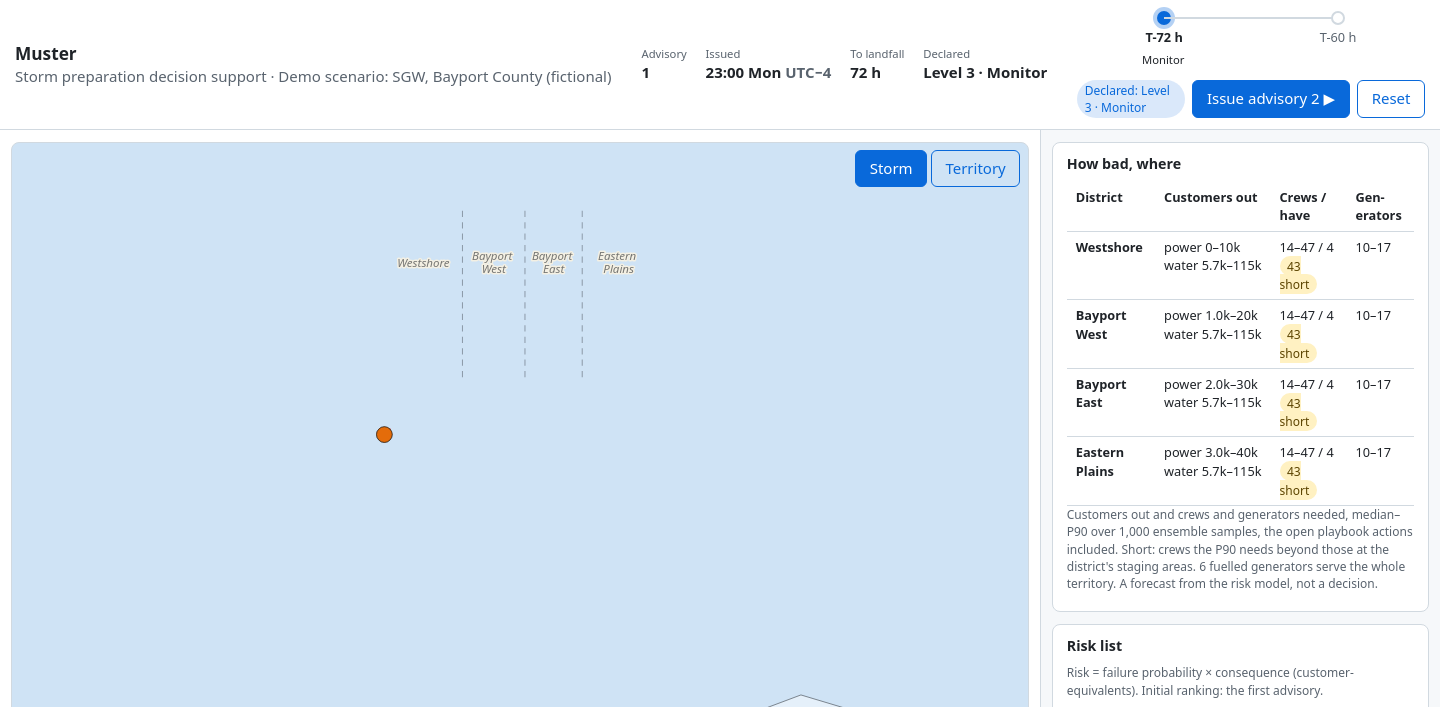
the district summary and the map show the outage forecast, and change with each advisory
Check: the cell "power 0–10k water 5.7k–115k" is shown, box [1155,232,1270,300]
Check: the cell "14–47 / 4 43 short" in the row of "0–10k" is shown, box [1270,232,1346,300]
Click the button "Territory" at (976, 169), box [931,150,1020,187]
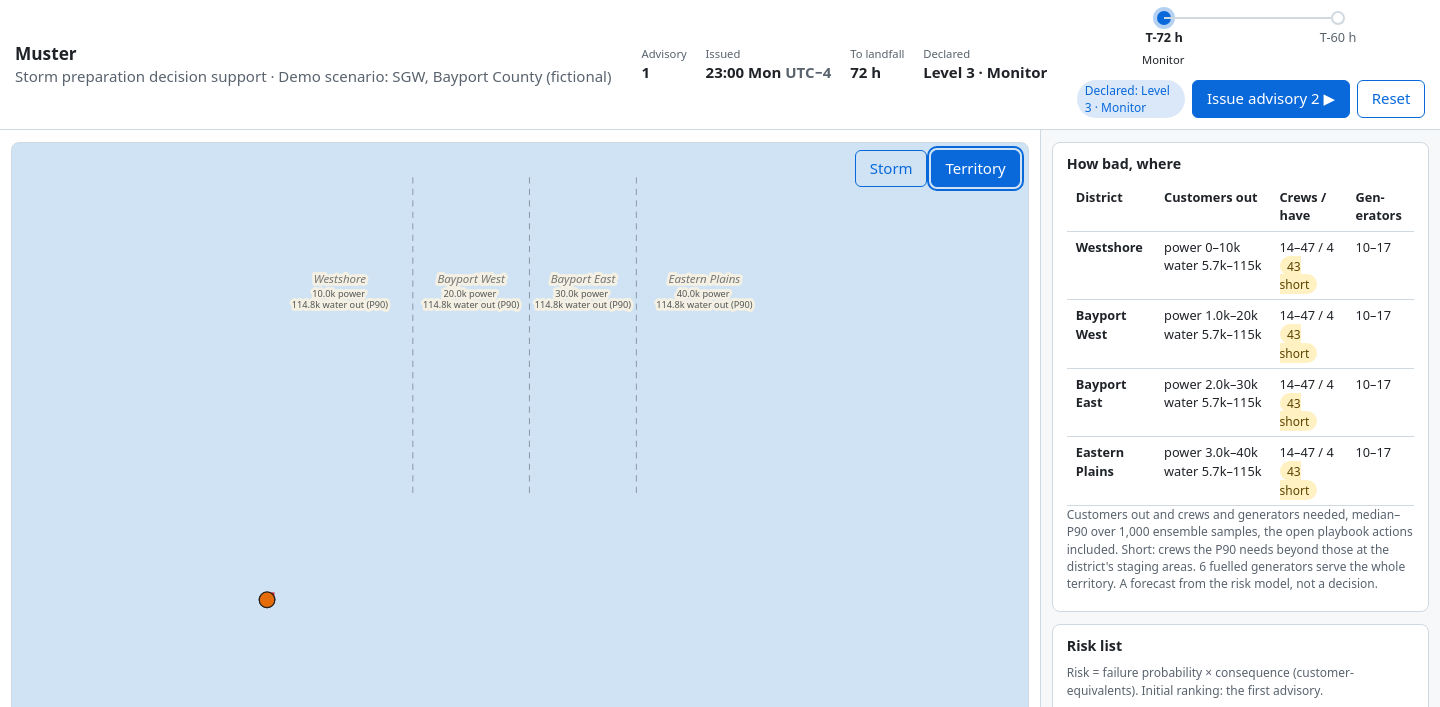
Click the button "Issue advisory 2 ▶" at (1271, 99), box [1192,80,1350,118]
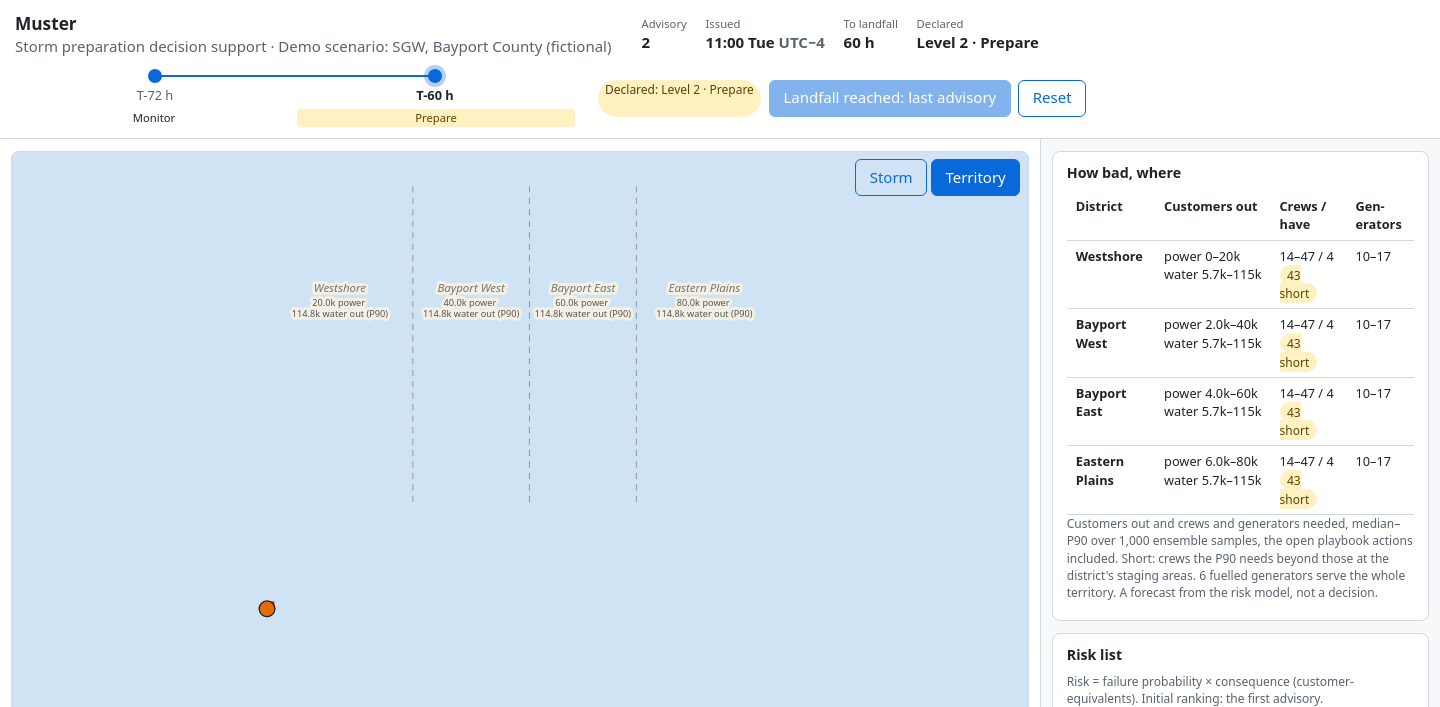
Check: the table named "Outage forecast by district, advisory 2" is shown, box [1067,191,1414,515]
Check: the cell "power 2.0k–40k water 5.7k–115k" is shown, box [1155,309,1270,377]
